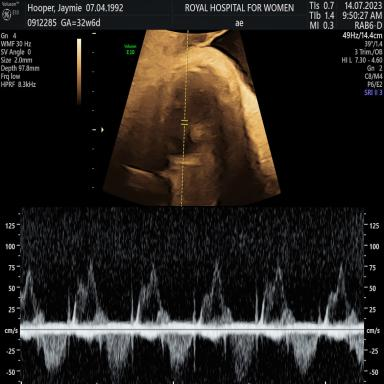Ultrasound-Waves: (22, 206, 362, 383)
